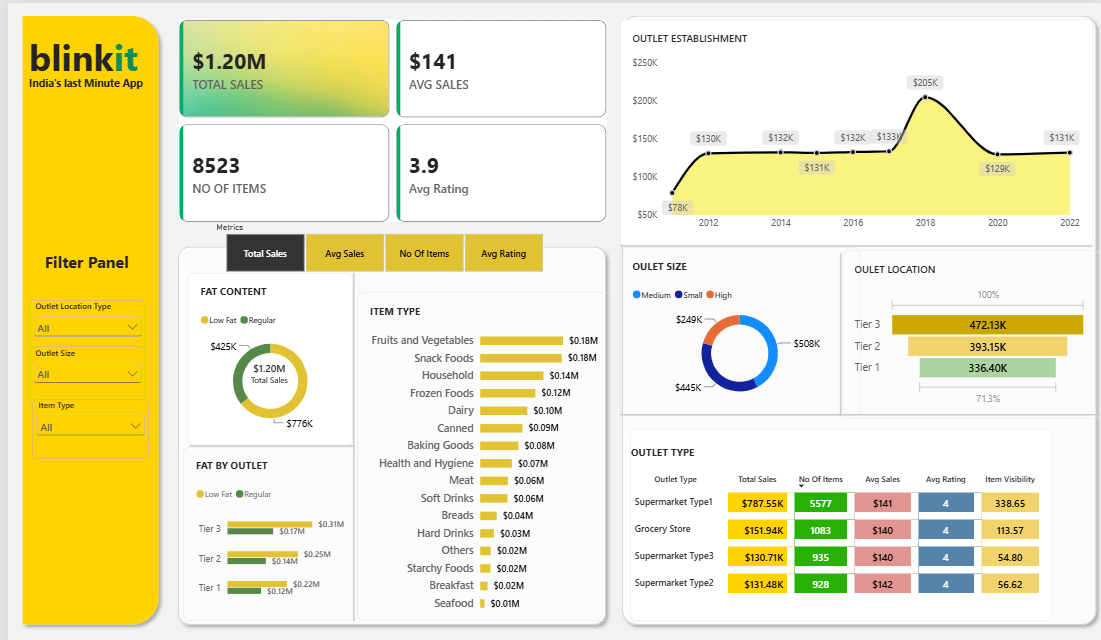

This screenshot's page, from the dashboard's own definition file:
{"tool":"powerbi","page":{"name":"Page 1","canvas":[1463,863],"ordinal":0},"visuals":[{"type":"shape","box":[10,8,200,830],"z":0},{"type":"textbox","box":[28.3,38.3,361.7,56.7],"z":1000},{"type":"textbox","box":[210,83,180,708],"z":2000},{"type":"textbox","box":[28.3,95,156.7,21.7],"z":3000},{"type":"cardVisual","fields":{"Data":["BlinkIT Grocery Data.Total Sales","BlinkIT Grocery Data.Avg Sales","BlinkIT Grocery Data.No Of Items","BlinkIT Grocery Data.Avg Rating"]},"box":[228.3,21.7,570,270],"z":4000},{"type":"shape","box":[218,316,588,522],"z":5000},{"type":"donutChart","title":"FAT CONTENT","fields":{"Category":["BlinkIT Grocery Data.Item Fat Content"],"Y":["BlinkIT Grocery Data.Total Sales"]},"box":[240,360,220,230],"z":6000},{"type":"slicer","fields":{"Values":["Metrics.Metrics"]},"box":[270,292,462,68],"z":7000},{"type":"cardVisual","fields":{"Data":["BlinkIT Grocery Data.Total Sales"]},"box":[296.7,450,105,88.3],"z":8000},{"type":"clusteredBarChart","title":"FAT BY OUTLET","fields":{"Category":["BlinkIT Grocery Data.Outlet Location Type"],"Series":["BlinkIT Grocery Data.Item Fat Content"],"Y":["BlinkIT Grocery Data.Total Sales"]},"box":[234,592,231.7,231.7],"z":9000},{"type":"shape","box":[240,554,220,45],"z":10000},{"type":"shape","box":[436.7,360,48.3,416.7],"z":11000},{"type":"barChart","title":"ITEM TYPE","fields":{"Category":["BlinkIT Grocery Data.Item Type"],"Y":["BlinkIT Grocery Data.Total Sales"]},"box":[466,386,338,438],"z":12000},{"type":"shape","box":[810,8,650,830],"z":13000},{"type":"lineChart","title":"OUTLET ESTABLISHMENT","fields":{"Category":["BlinkIT Grocery Data.Outlet Establishment Year"],"Y":["BlinkIT Grocery Data.Total Sales"]},"box":[816,22,630,302],"z":14000},{"type":"shape","box":[816,302,630,44],"z":15000},{"type":"donutChart","title":"OULET SIZE","fields":{"Category":["BlinkIT Grocery Data.Outlet Size"],"Y":["BlinkIT Grocery Data.Total Sales"]},"box":[816,326,320,224],"z":16000},{"type":"shape","box":[1086,334,48.3,216.7],"z":17000},{"type":"funnel","title":"OULET LOCATION","fields":{"Category":["BlinkIT Grocery Data.Outlet Location Type"],"Y":["Sum(BlinkIT Grocery Data.Sales)"]},"box":[1112,330,344,224],"z":18000},{"type":"shape","box":[816,526,640,46],"z":19000},{"type":"pivotTable","title":"OUTLET TYPE","fields":{"Rows":["BlinkIT Grocery Data.Outlet Type"],"Values":["BlinkIT Grocery Data.Total Sales","BlinkIT Grocery Data.No Of Items","BlinkIT Grocery Data.Avg Sales","BlinkIT Grocery Data.Avg Rating","Sum(BlinkIT Grocery Data.Item Visibility)"]},"box":[830,568,562,256],"z":20000},{"type":"slicer","fields":{"Values":["BlinkIT Grocery Data.Outlet Location Type"]},"box":[28,396,156,80],"z":21000},{"type":"slicer","fields":{"Values":["BlinkIT Grocery Data.Outlet Size"]},"box":[28,458,156,80],"z":21001},{"type":"slicer","fields":{"Values":["BlinkIT Grocery Data.Item Type"]},"box":[32,528,156,80],"z":21002},{"type":"textbox","box":[32,330,146,40],"z":21003}]}

Visuals, with their boxes in screenshot pixels (x1, y1, x2, y2), scaled from the page's 1463x863 canvas onto the 1101x640 screenshot:
shape: locate(8, 6, 158, 621)
textbox: locate(21, 28, 293, 70)
textbox: locate(158, 62, 293, 587)
textbox: locate(21, 70, 139, 87)
cardVisual - BlinkIT Grocery Data.Total Sales x BlinkIT Grocery Data.Avg Sales: locate(172, 16, 601, 216)
shape: locate(164, 234, 607, 621)
"FAT CONTENT" donutChart: locate(181, 267, 346, 438)
slicer - Metrics.Metrics: locate(203, 217, 551, 267)
cardVisual - BlinkIT Grocery Data.Total Sales: locate(223, 334, 302, 399)
"FAT BY OUTLET" clusteredBarChart: locate(176, 439, 350, 611)
shape: locate(181, 411, 346, 444)
shape: locate(329, 267, 365, 576)
"ITEM TYPE" barChart: locate(351, 286, 605, 611)
shape: locate(610, 6, 1099, 621)
"OUTLET ESTABLISHMENT" lineChart: locate(614, 16, 1088, 240)
shape: locate(614, 224, 1088, 257)
"OULET SIZE" donutChart: locate(614, 242, 855, 408)
shape: locate(817, 248, 854, 408)
"OULET LOCATION" funnel: locate(837, 245, 1096, 411)
shape: locate(614, 390, 1096, 424)
"OUTLET TYPE" pivotTable: locate(625, 421, 1048, 611)
slicer - BlinkIT Grocery Data.Outlet Location Type: locate(21, 294, 138, 353)
slicer - BlinkIT Grocery Data.Outlet Size: locate(21, 340, 138, 399)
slicer - BlinkIT Grocery Data.Item Type: locate(24, 392, 141, 451)
textbox: locate(24, 245, 134, 274)
